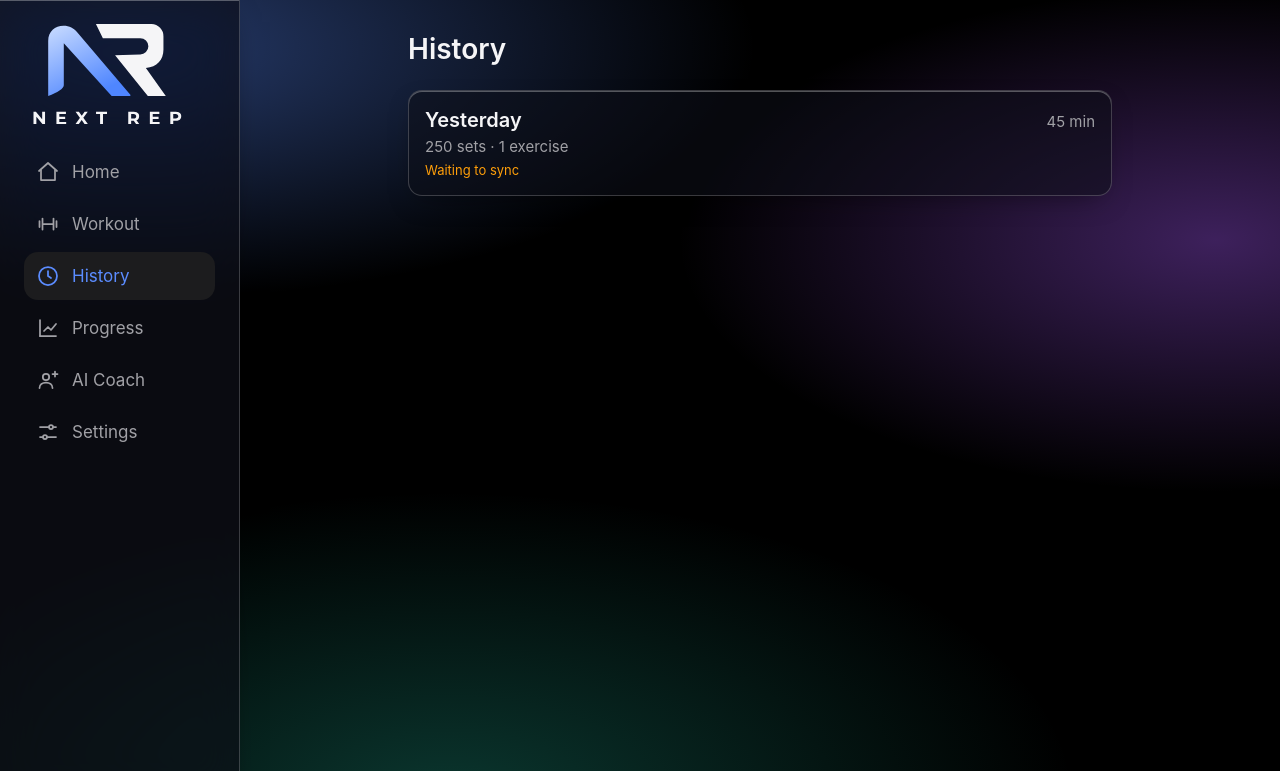
Test: history rows with odd data › counts a large workout correctly in the list and the detail page
The width and height of the screenshot is (1280, 771).
What coordinates should you click on to do the following:
click the link "Yesterday 45 min 250 sets · 1 exercise Waiting to sync"
I would click on:
 (473, 120)
Its box is [408, 90, 1112, 196].
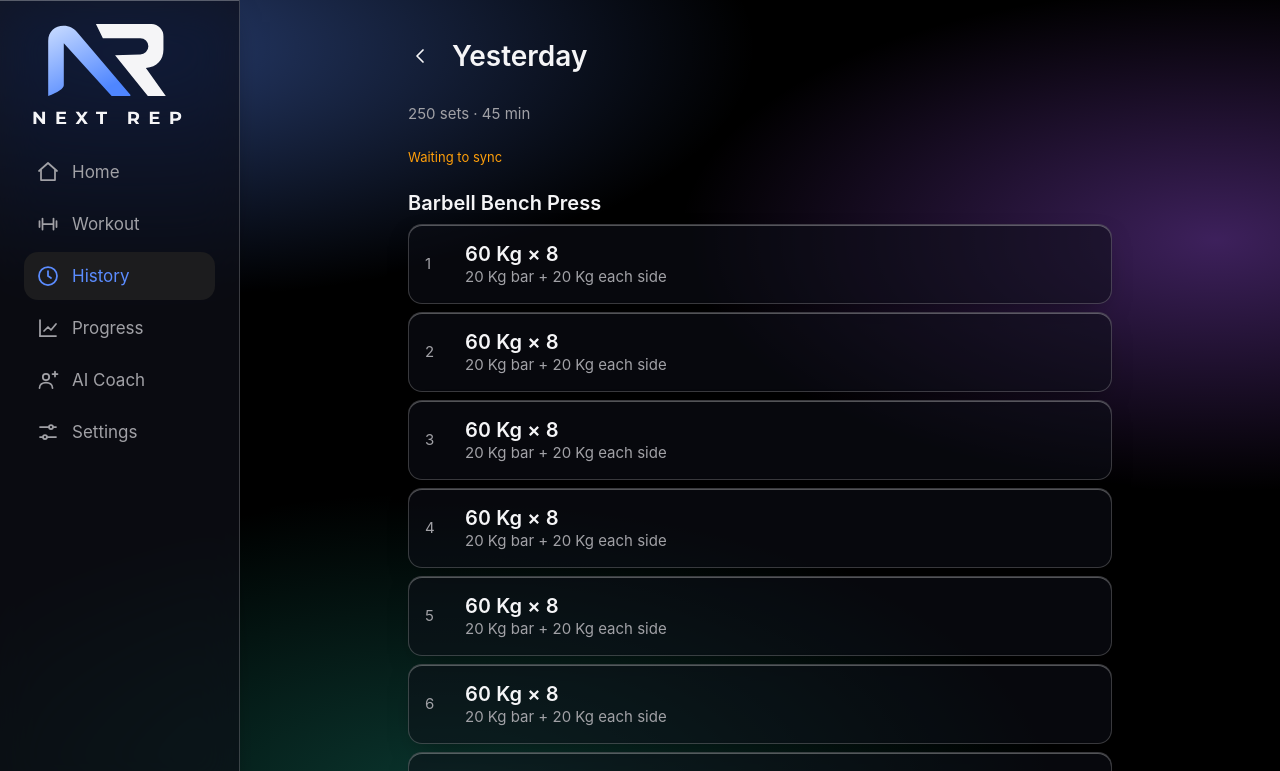
Result: the text "250 sets · 45 min" is shown at [408, 104, 530, 123]
